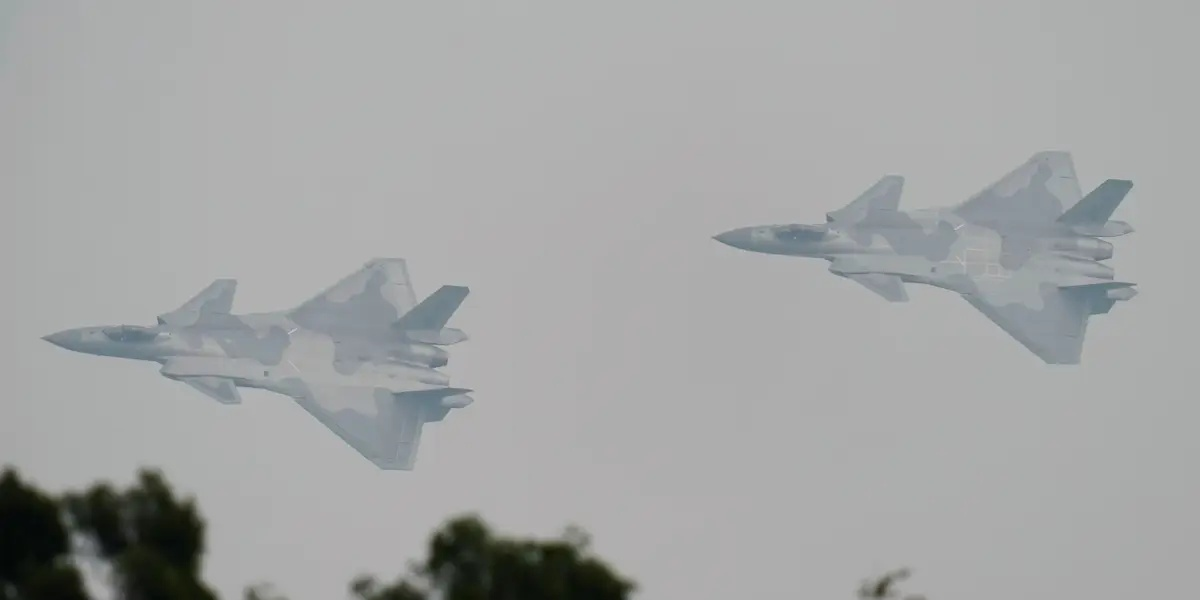J20: (38, 257, 475, 471), (711, 150, 1140, 366)
